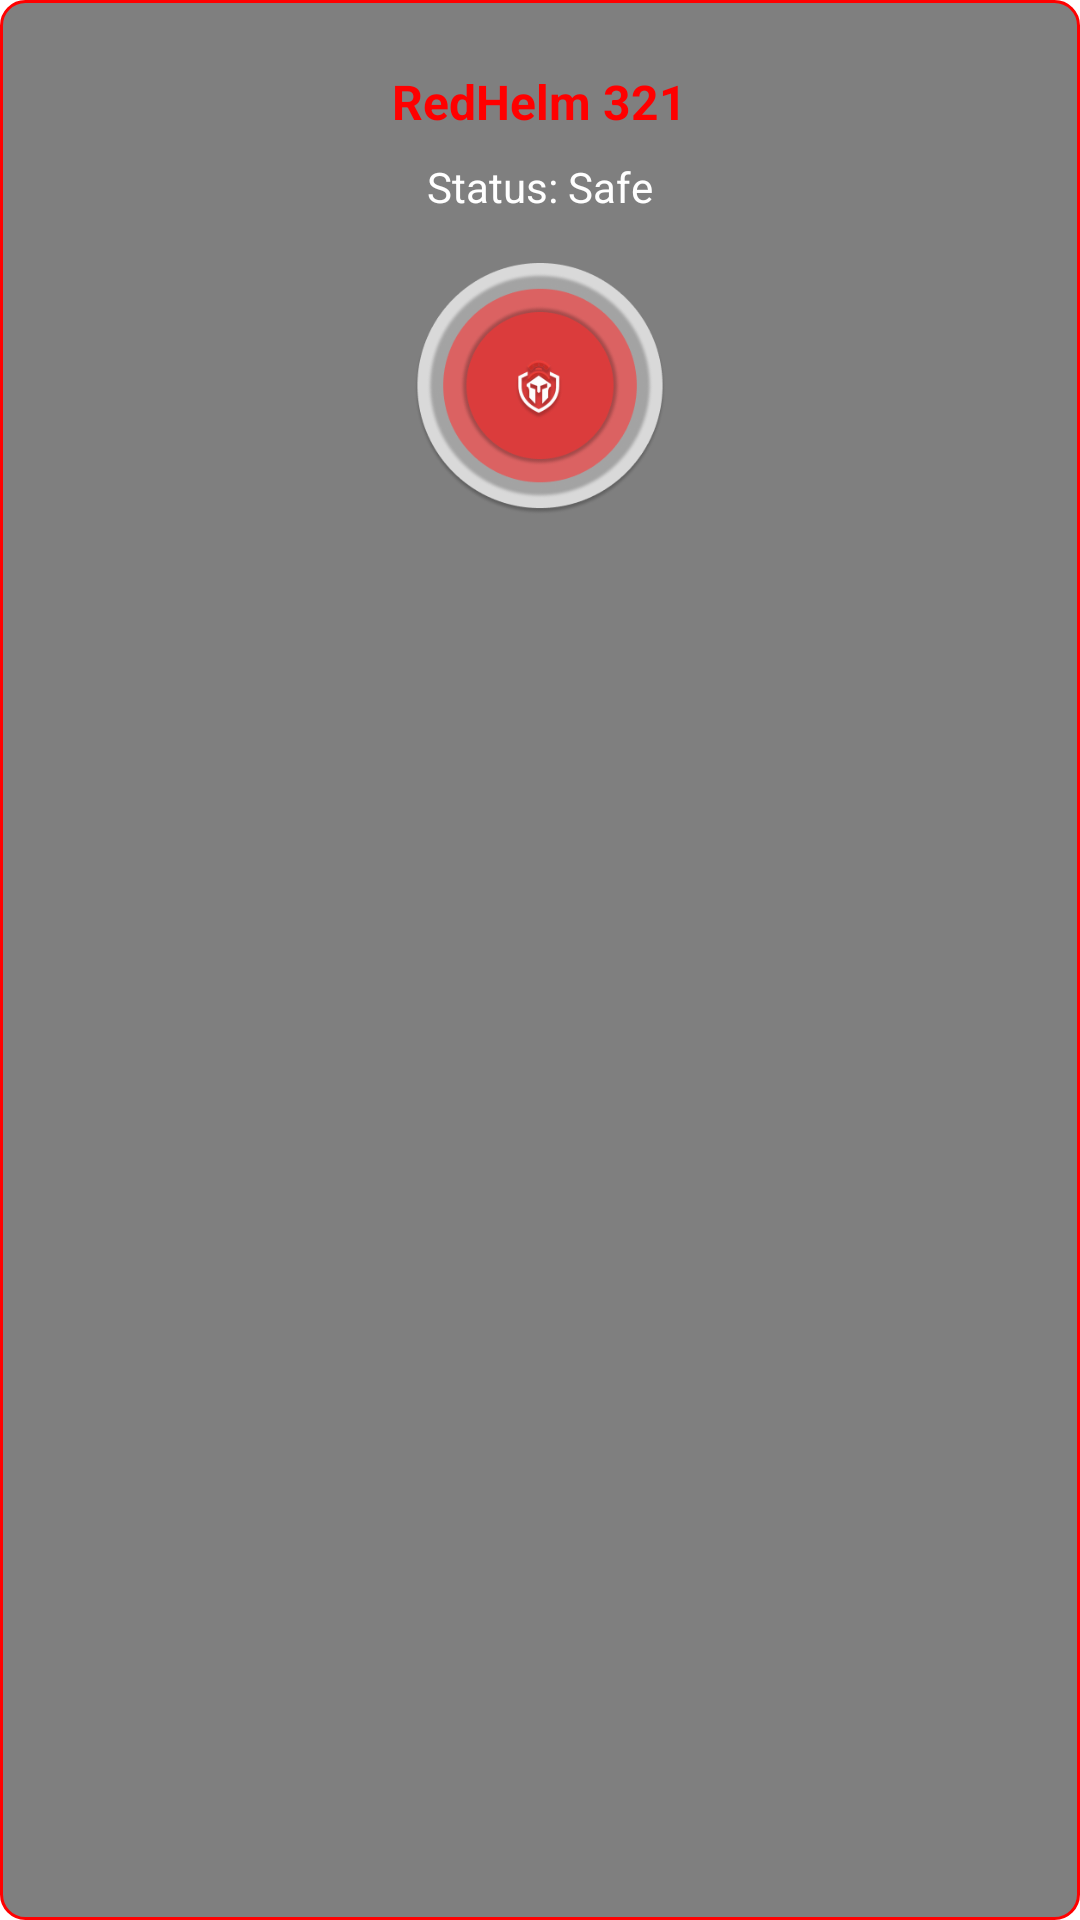

Named icons in this screenshot (1080x1920) and their bounding boxes, (x1, y1, x2, y2):
connectbutton: (417, 263, 663, 510)
